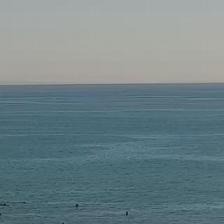surfer: (0, 203, 8, 207), (125, 210, 129, 216), (19, 201, 27, 204), (75, 203, 79, 208), (0, 211, 2, 216), (61, 222, 64, 223)
